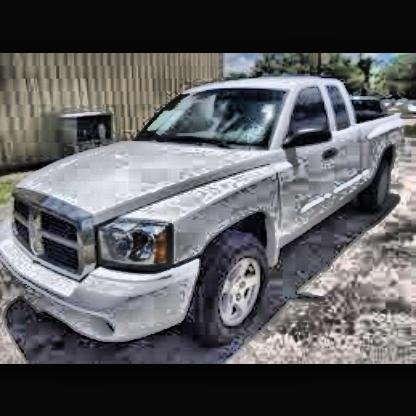Dodge Dakota Club Cab 2007: (3, 74, 410, 350)
